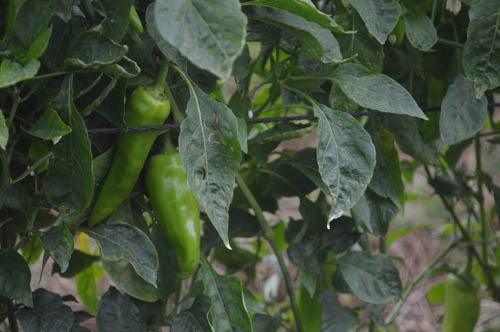ChiliPepper: (88, 85, 170, 231), (145, 153, 201, 279)
